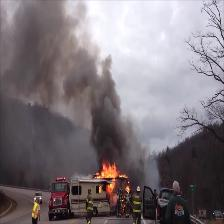fire: (97, 163, 119, 181)
smoke: (19, 4, 72, 86), (80, 66, 125, 154), (128, 139, 151, 180)
